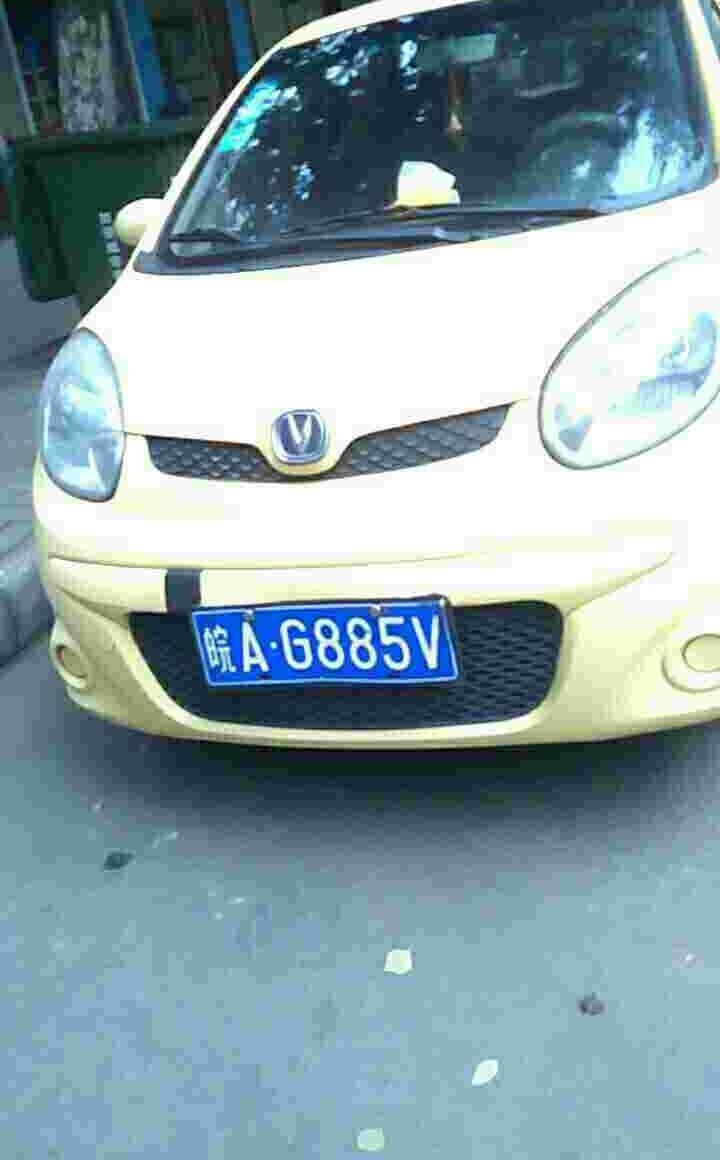car: (188, 612, 475, 687)
